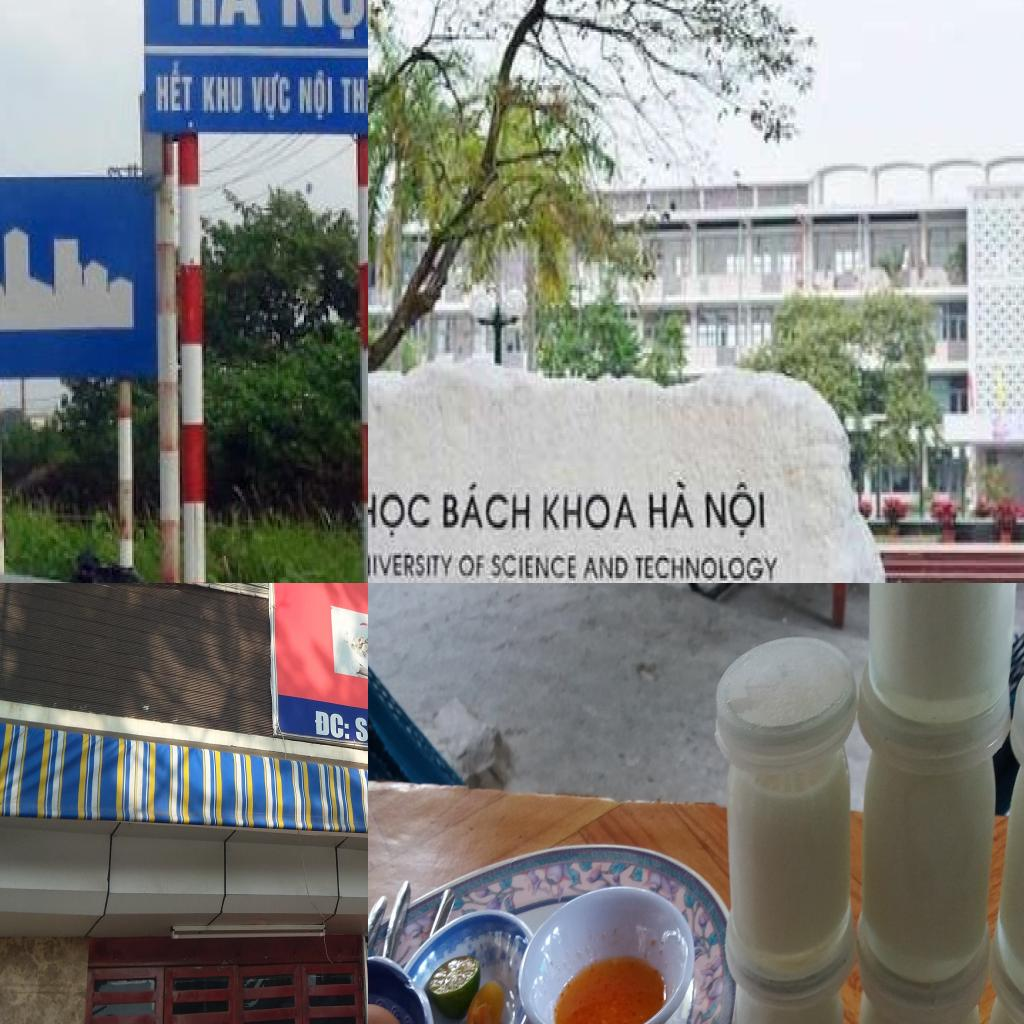text: (442, 480, 532, 532), (703, 480, 767, 542), (542, 490, 638, 530), (282, 0, 368, 44), (368, 489, 432, 542), (647, 477, 697, 530), (492, 552, 579, 580), (368, 552, 453, 580), (176, 0, 264, 27), (250, 72, 292, 122), (156, 63, 196, 113), (298, 70, 334, 122), (312, 706, 353, 746), (202, 77, 244, 115), (580, 552, 630, 583), (340, 70, 368, 117), (458, 552, 488, 580), (354, 709, 368, 748), (364, 939, 368, 963)
